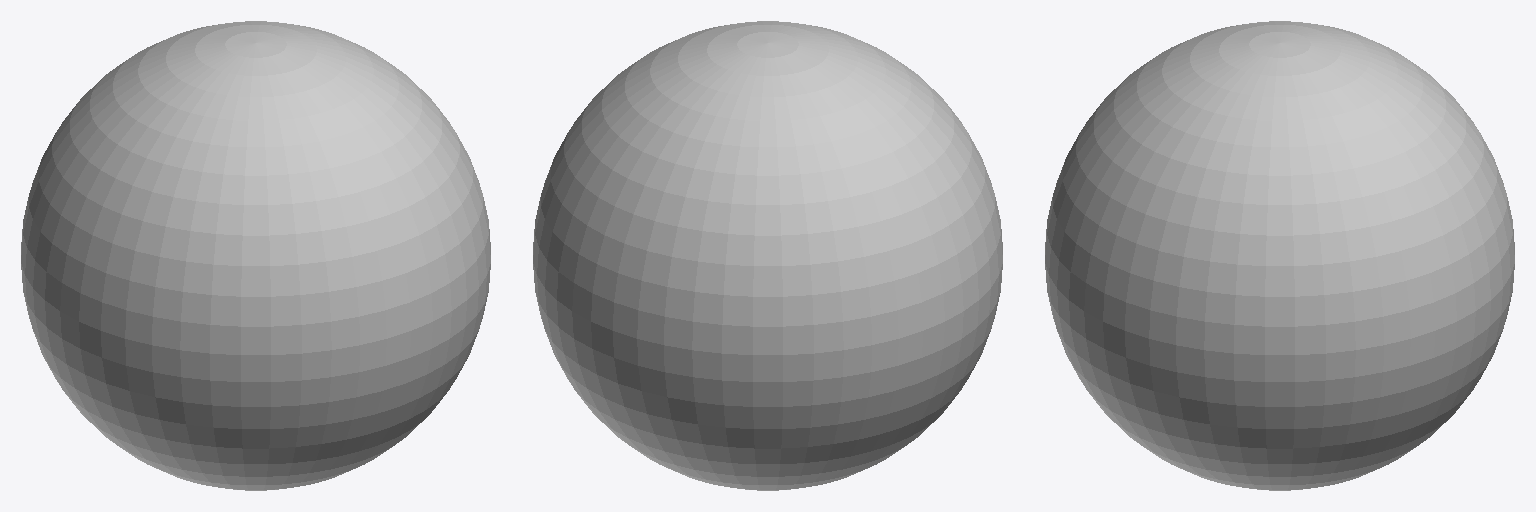
File: blackhole.obj
3 views of the same model, side by side, from view 1: azimuth 30°, elevation 25°; view 2: azimuth 150°, elevation 25°; view 3: azimuth 270°, elevation 25° (orthographic).
Visible parts, largest first — view 1: blackhole; view 2: blackhole; view 3: blackhole.
Boxes of the visible parts, x1,y1,x2,y2 form: blackhole: [21, 21, 490, 490]; blackhole: [533, 21, 1002, 490]; blackhole: [1045, 21, 1514, 490].
Size of the model in its own units: 1 by 1 by 1.